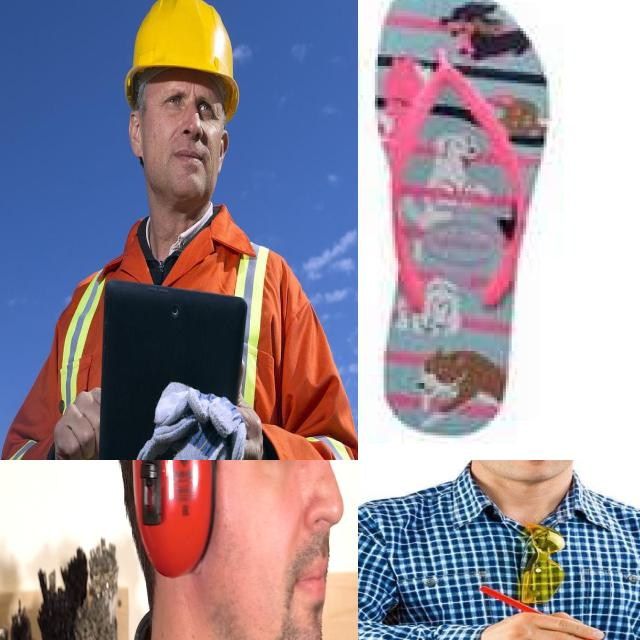Ear-protection: (110, 460, 355, 640)
No_Ear-Protection: (127, 111, 144, 161), (218, 129, 229, 173)
No_Glasses: (153, 87, 218, 125)
Sandals: (358, 0, 596, 460)
face_nomask: (145, 115, 222, 199)
head_helmet: (125, 0, 239, 122)
